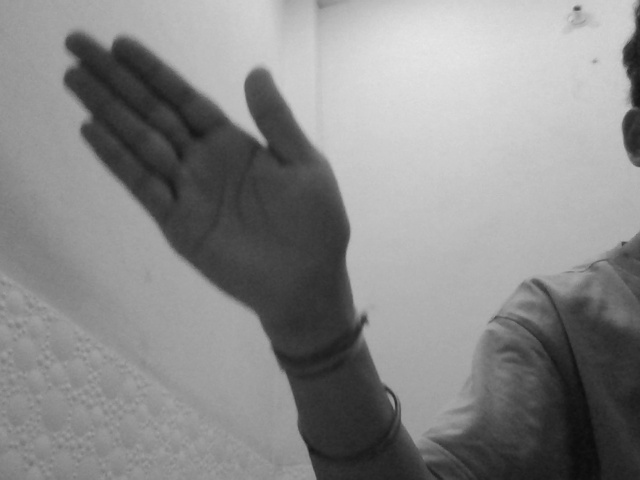Hello: (55, 26, 362, 320)
